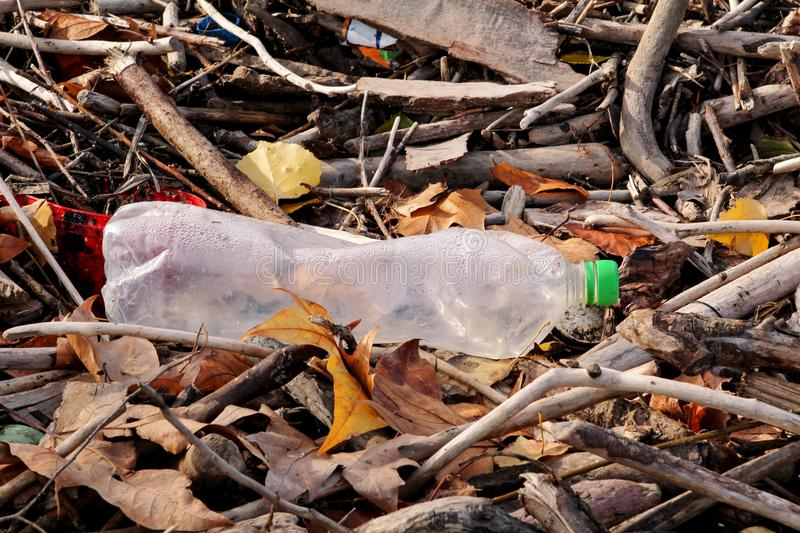bottle: (98, 198, 632, 359)
